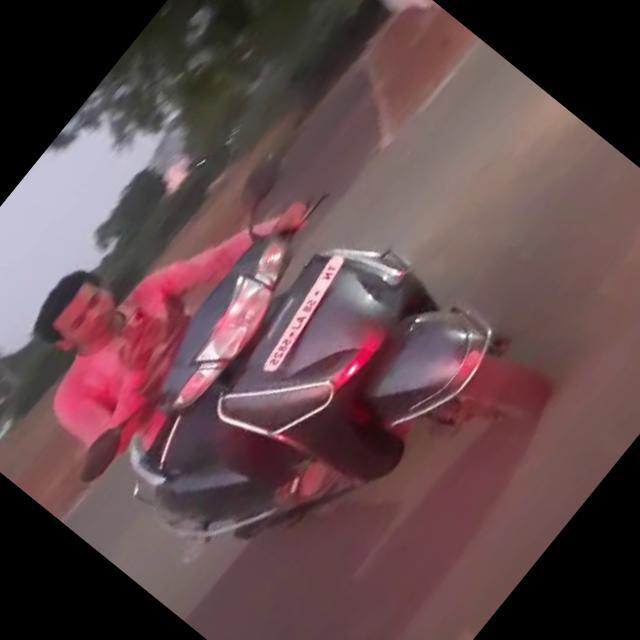USING_MOBILE: (0, 250, 180, 446)
